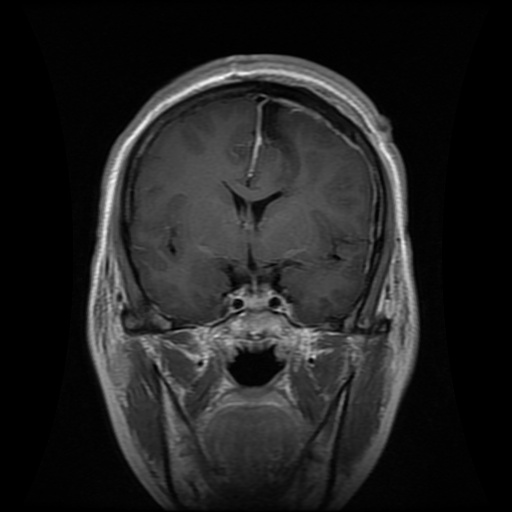glioma: (257, 101, 300, 174)
